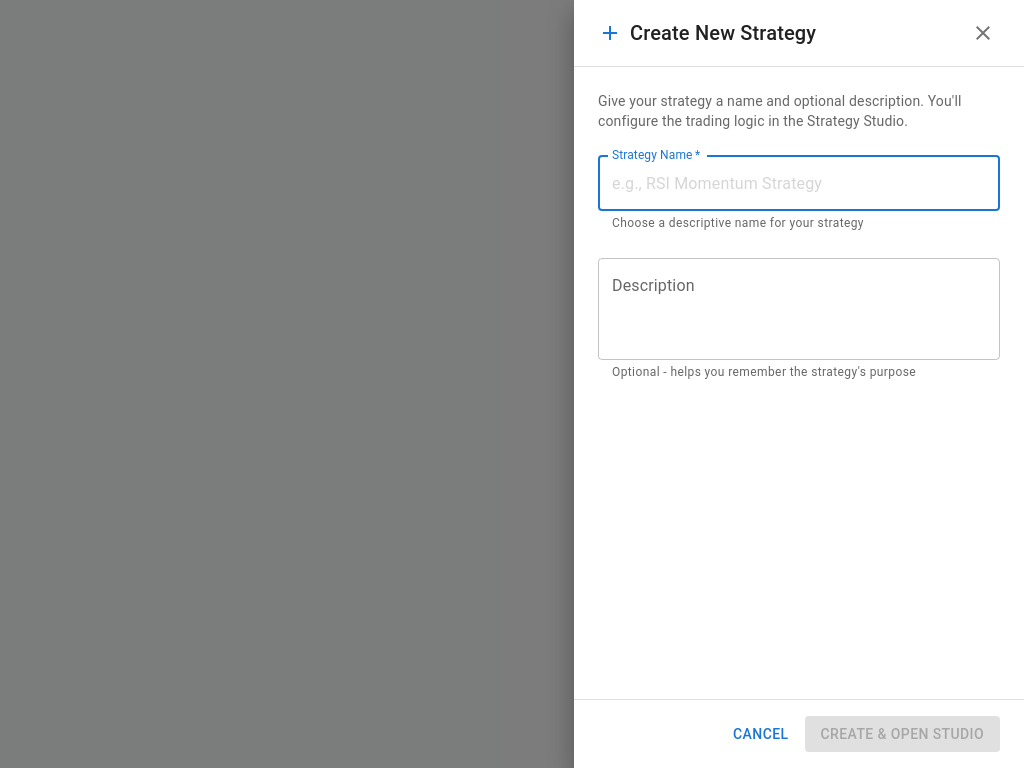
StrategyNameDrawer › cancel and unsaved changes › shows confirmation when Cancel is clicked with unsaved changes
Type "Test" into the field labelled "Strategy Name *" at x=799, y=183, box [598, 155, 1000, 211]
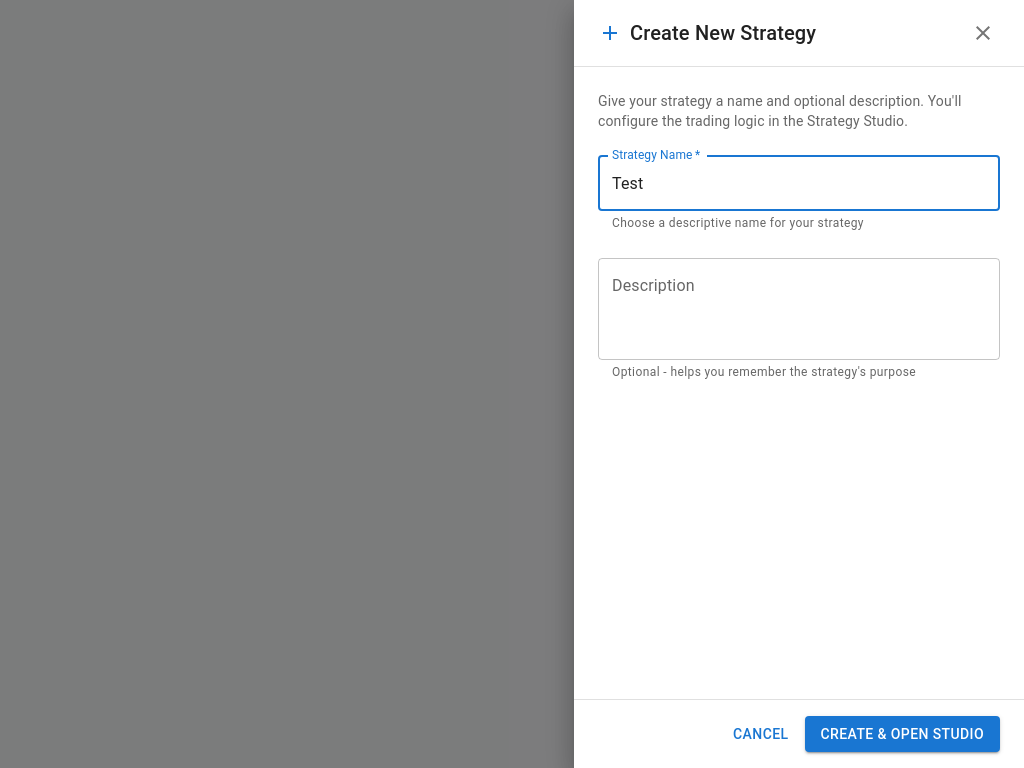
Click the button "Cancel" at x=761, y=734, box [725, 716, 797, 752]
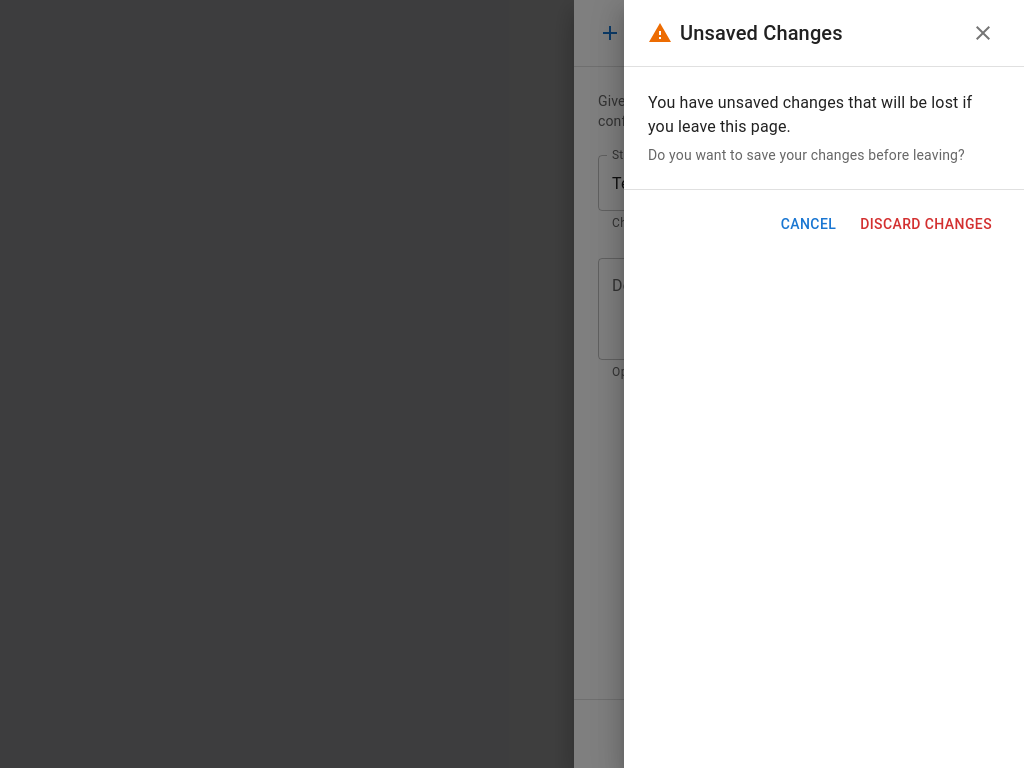
Expected: the button "Discard Changes" is shown, [852, 206, 1000, 242]
